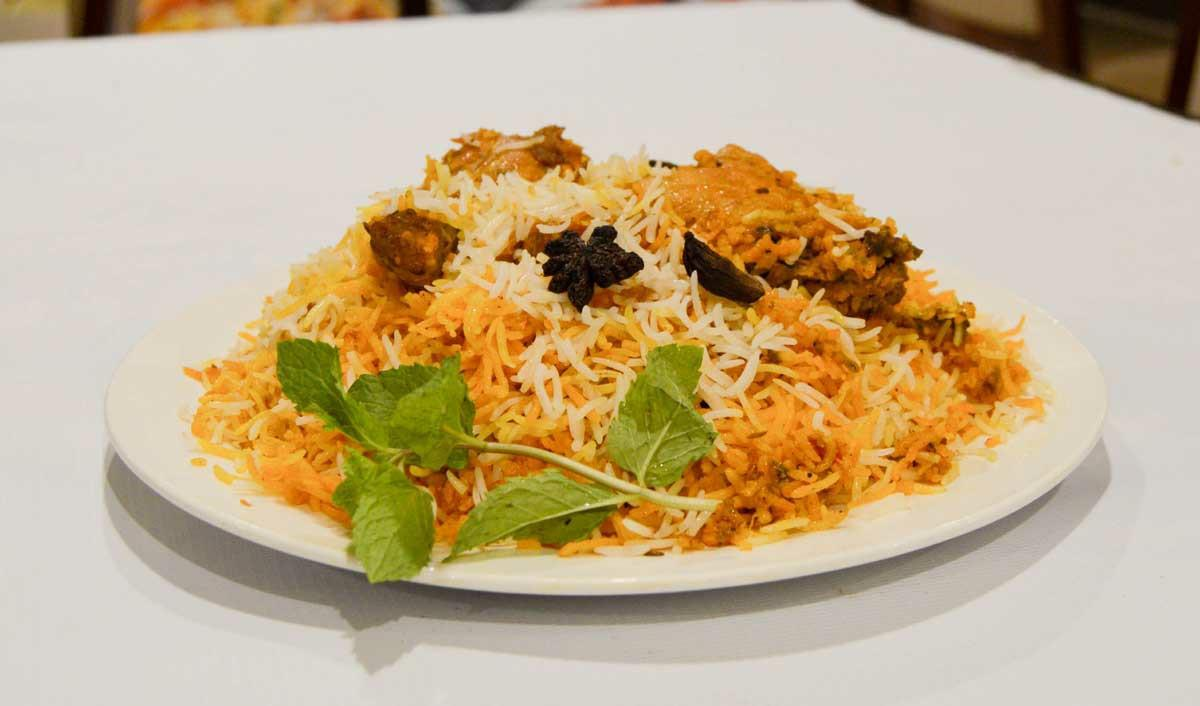Biryani: (186, 122, 1050, 584)
